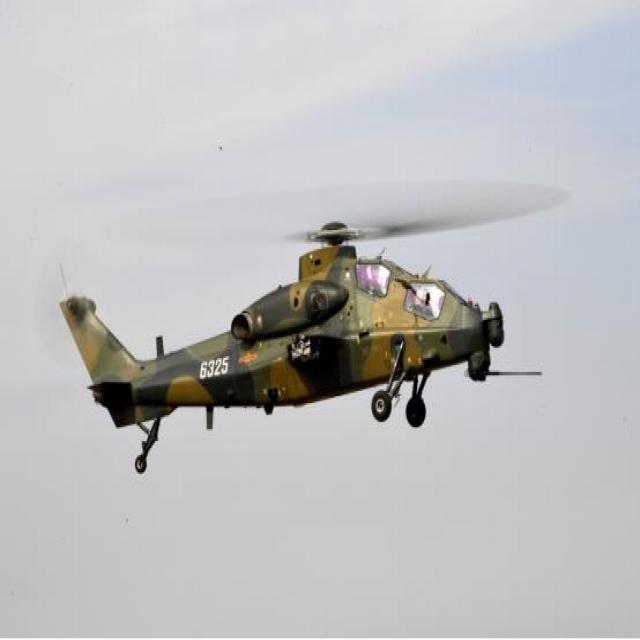MIL_HELO: (37, 143, 570, 476)
